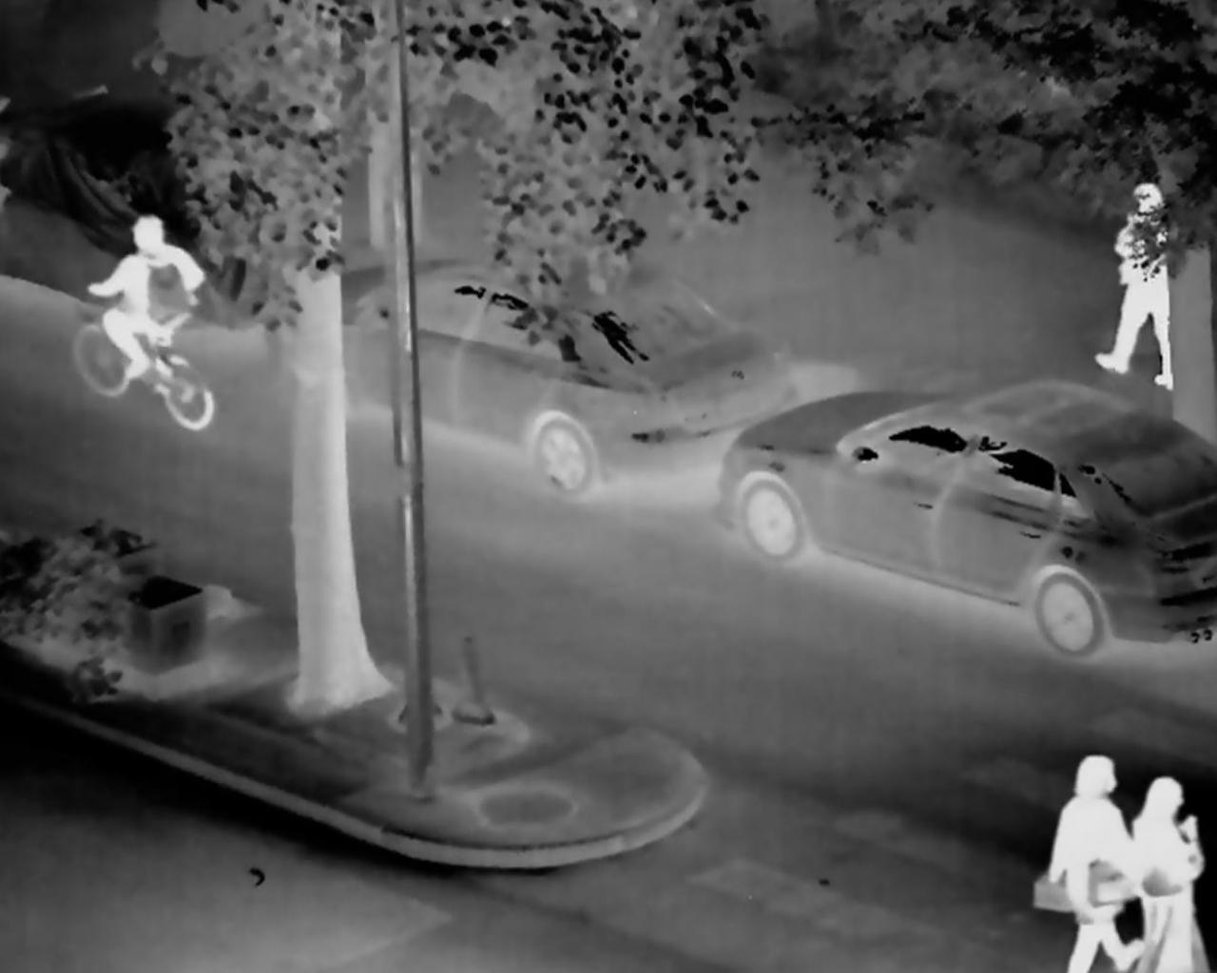person: (89, 216, 223, 409), (1048, 750, 1136, 973), (1099, 184, 1191, 392), (1128, 769, 1206, 973)
